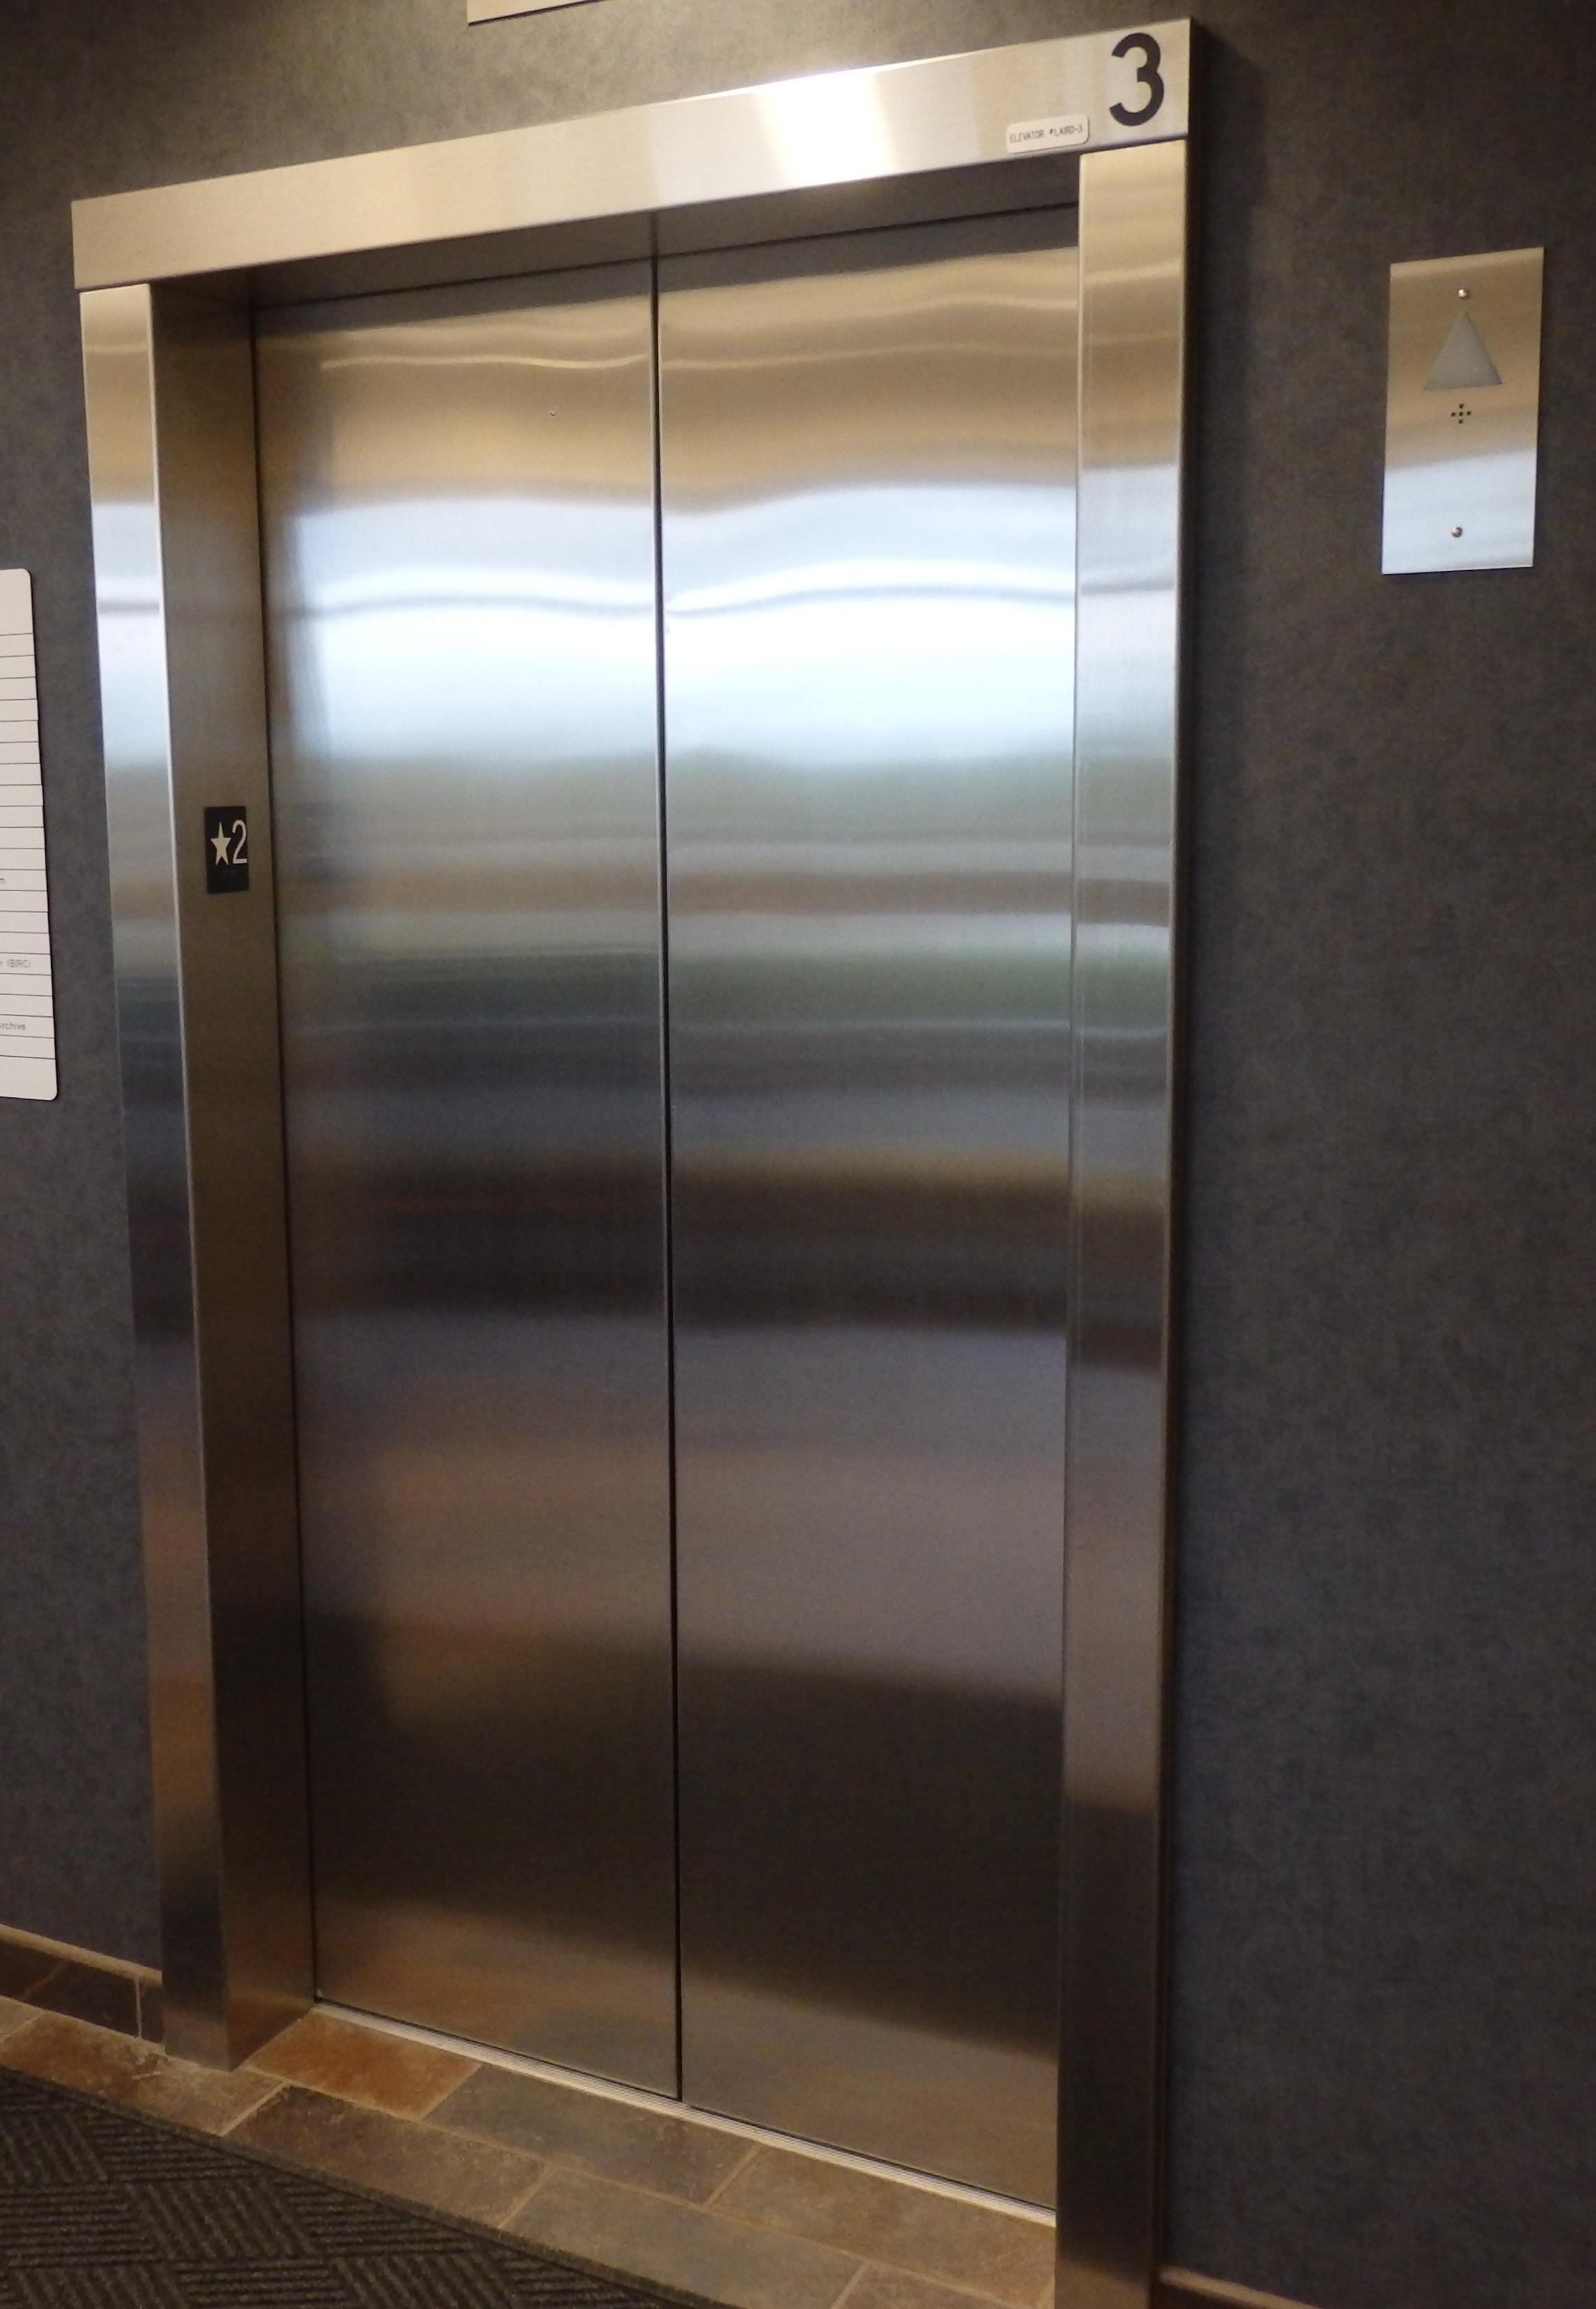door: (137, 198, 1121, 2263)
